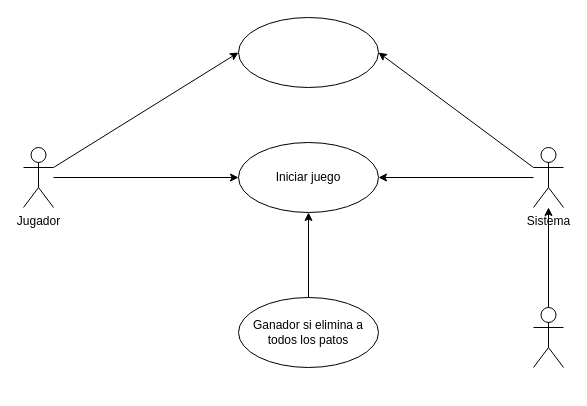
Image size: 587x406. Some labels were removed from this diagram. Here are the shapes that lost their labels. From the top down, the centre of each, then its label:
At point 308,52: "Autenticarse para ingresar al sistema".
At point 548,337: "Palanca".
